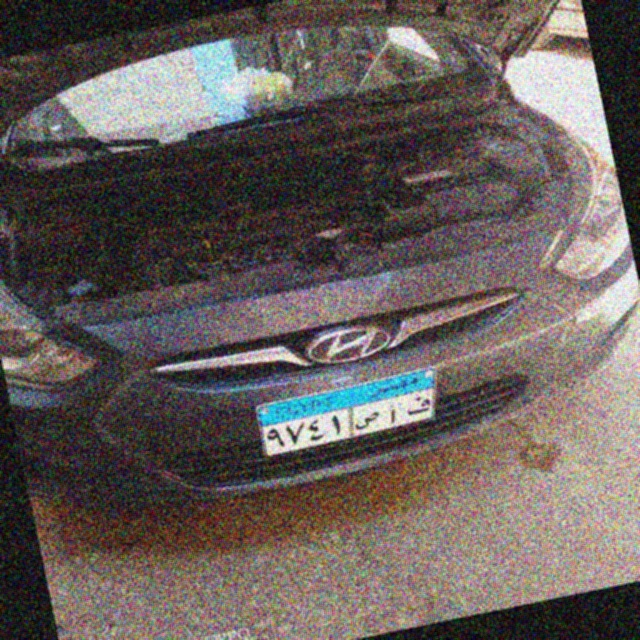License Plate: (249, 365, 447, 457)
